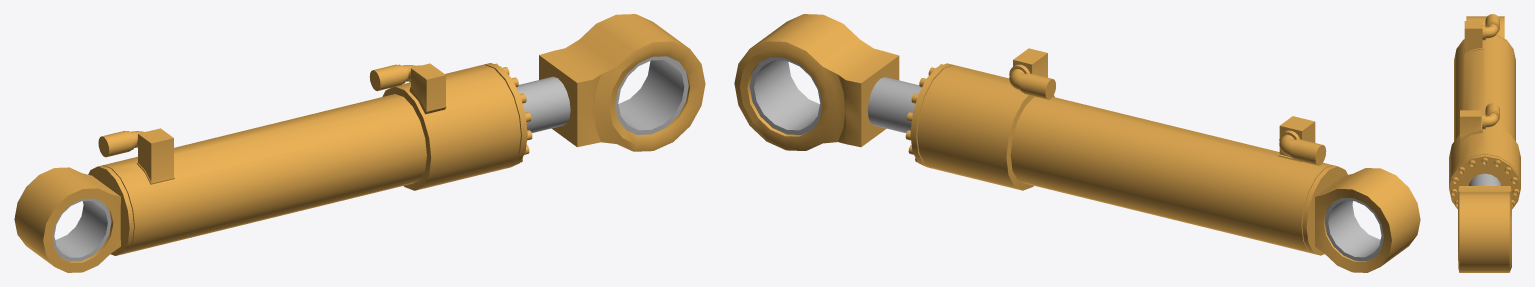
The model's file is Boom Cylinder.fbx.
The picture shows the model from 3 angles, left to right: view 1: azimuth 30°, elevation 25°; view 2: azimuth 150°, elevation 25°; view 3: azimuth 270°, elevation 25°; orthographic projection. The views are drawn at different scales.
Parts seen in each view (by area): view 1: Cylinder.001, Cylinder.005, Cylinder, Cylinder.006, Cylinder.003, Cylinder.002; view 2: Cylinder.001, Cylinder.005, Cylinder, Cylinder.006, Cylinder.003, Cylinder.002; view 3: Cylinder.001, Cylinder.005, Cylinder.004, Cylinder.002, Cylinder.003, Cylinder.006, Cylinder.
Boxes of the visible parts, x1,y1,x2,y2 form: Cylinder.001: (88, 63, 527, 255); Cylinder.005: (539, 14, 705, 151); Cylinder: (14, 167, 120, 272); Cylinder.006: (516, 76, 570, 132); Cylinder.003: (369, 64, 421, 91); Cylinder.002: (98, 130, 147, 157); Cylinder.001: (910, 48, 1347, 255); Cylinder.005: (734, 14, 899, 150); Cylinder: (1315, 168, 1420, 272); Cylinder.006: (867, 77, 921, 133); Cylinder.003: (1009, 64, 1055, 99); Cylinder.002: (1279, 130, 1326, 165); Cylinder.001: (1449, 21, 1520, 209); Cylinder.005: (1458, 186, 1511, 272); Cylinder.004: (1450, 158, 1519, 207); Cylinder.002: (1482, 14, 1499, 40); Cylinder.003: (1482, 103, 1499, 129); Cylinder.006: (1469, 173, 1500, 185); Cylinder: (1466, 16, 1504, 38).
Bounding box in the file's own units: 1314 × 241 × 185.
